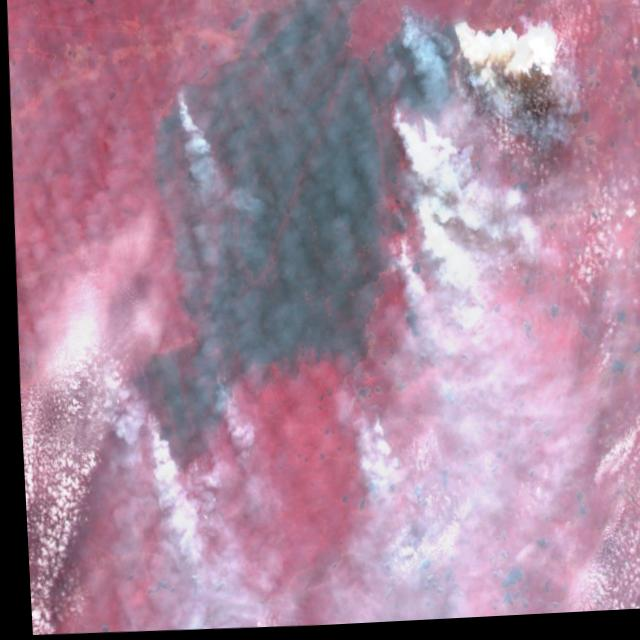fire: (91, 358, 245, 482), (381, 2, 469, 143), (374, 186, 436, 264), (343, 405, 384, 465), (168, 77, 195, 111)
